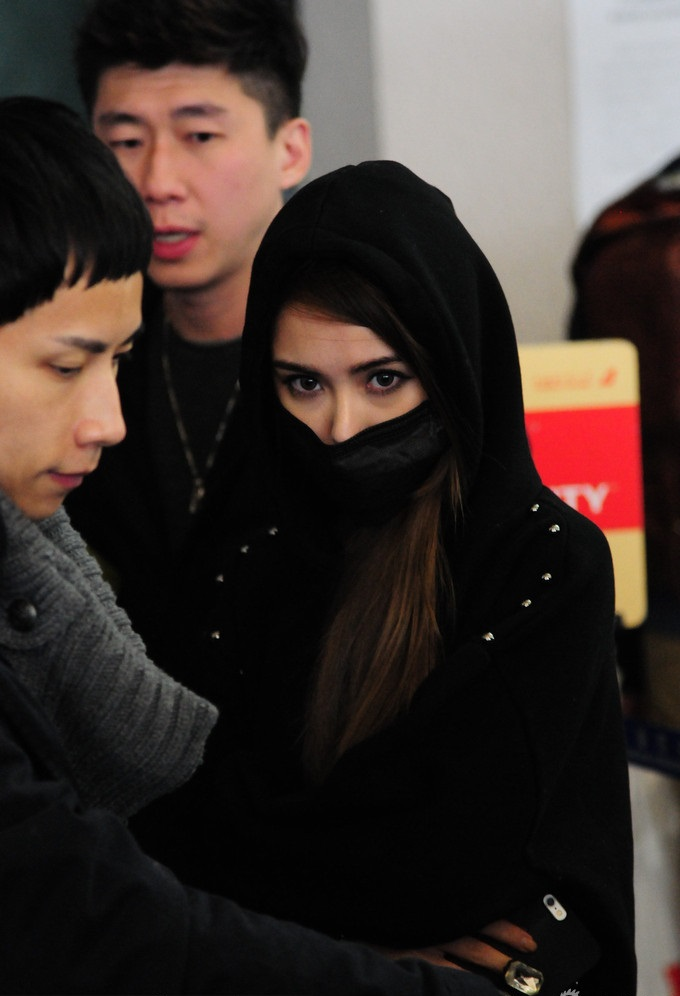face: (96, 39, 267, 290), (1, 259, 137, 522)
face_mask: (270, 284, 434, 531)
